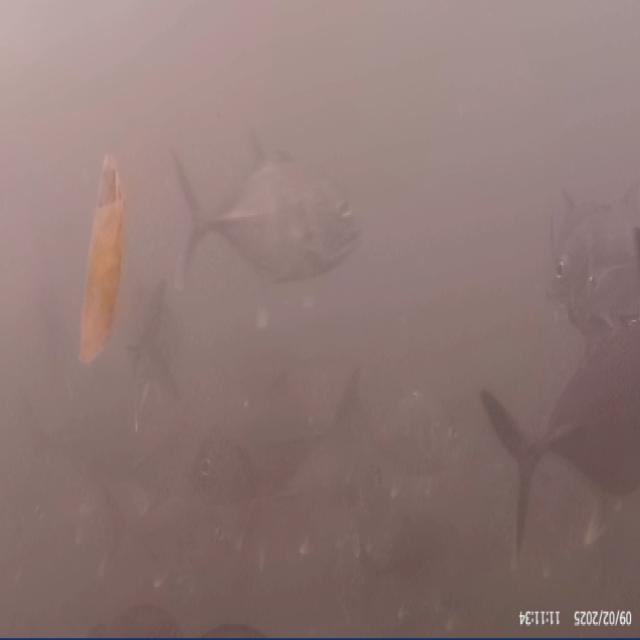ikan: (479, 316, 638, 558), (170, 126, 362, 292), (545, 180, 638, 343)
